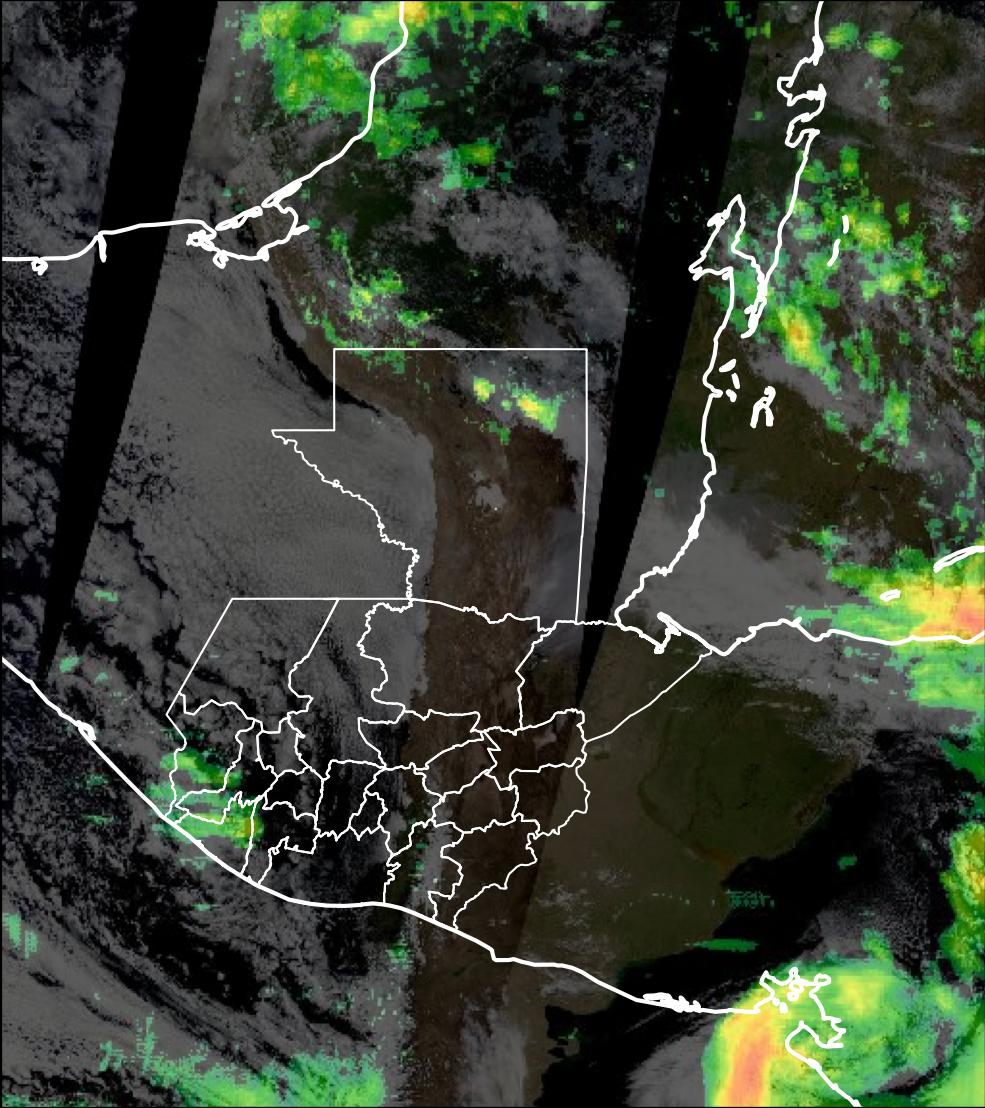precipitacion: (704, 994, 796, 1108), (900, 574, 982, 662)
